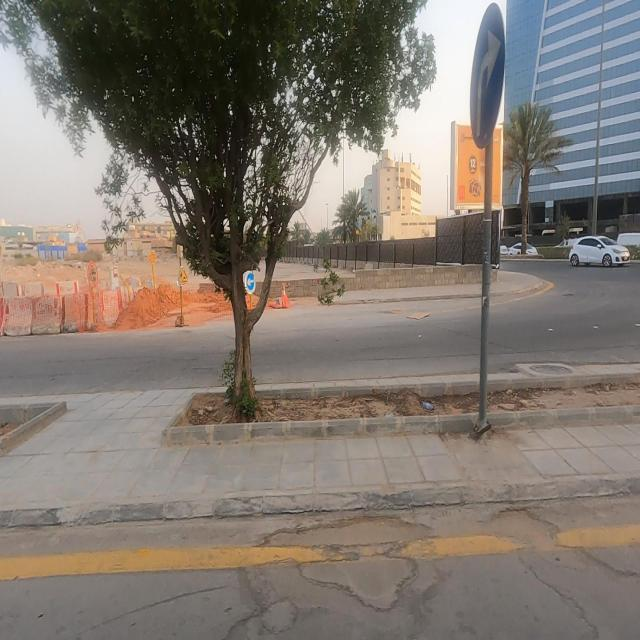debris: (390, 289, 450, 349), (412, 386, 442, 431)
